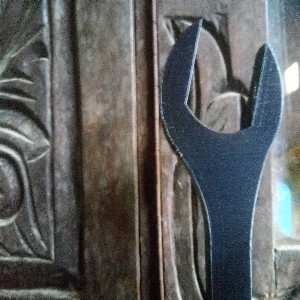spanner: (159, 16, 284, 300)
